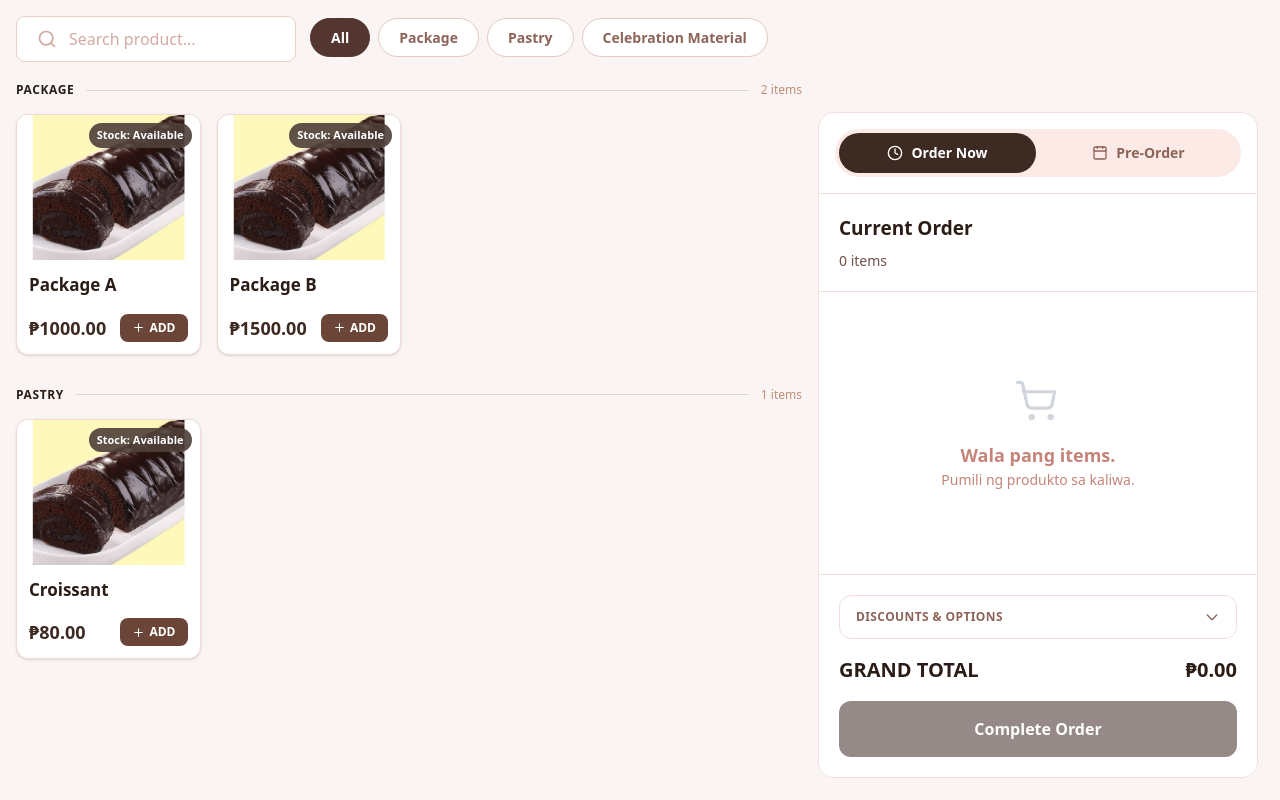
POSPage › switches to Pre-Order mode and shows customer fields
Expected: the heading "Package A" is shown, [29,273,116,296]
Click the button "Pre-Order": [1138, 153] box [1040,133,1237,173]
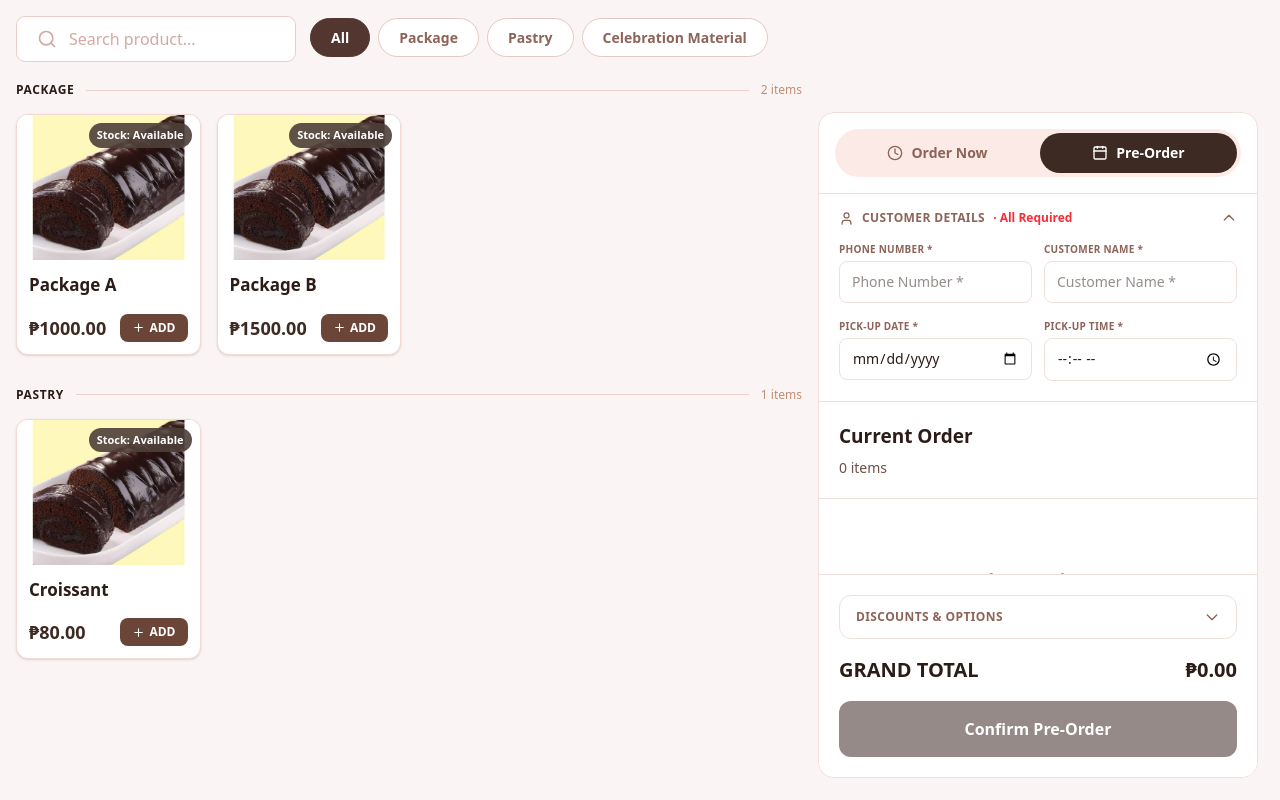
Now the text "Customer Details" is shown, box [862,210,985,226]
